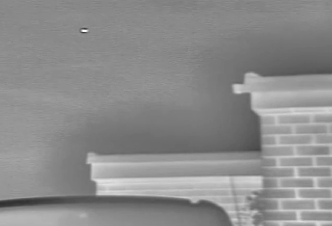Target: (82, 30, 88, 32)
